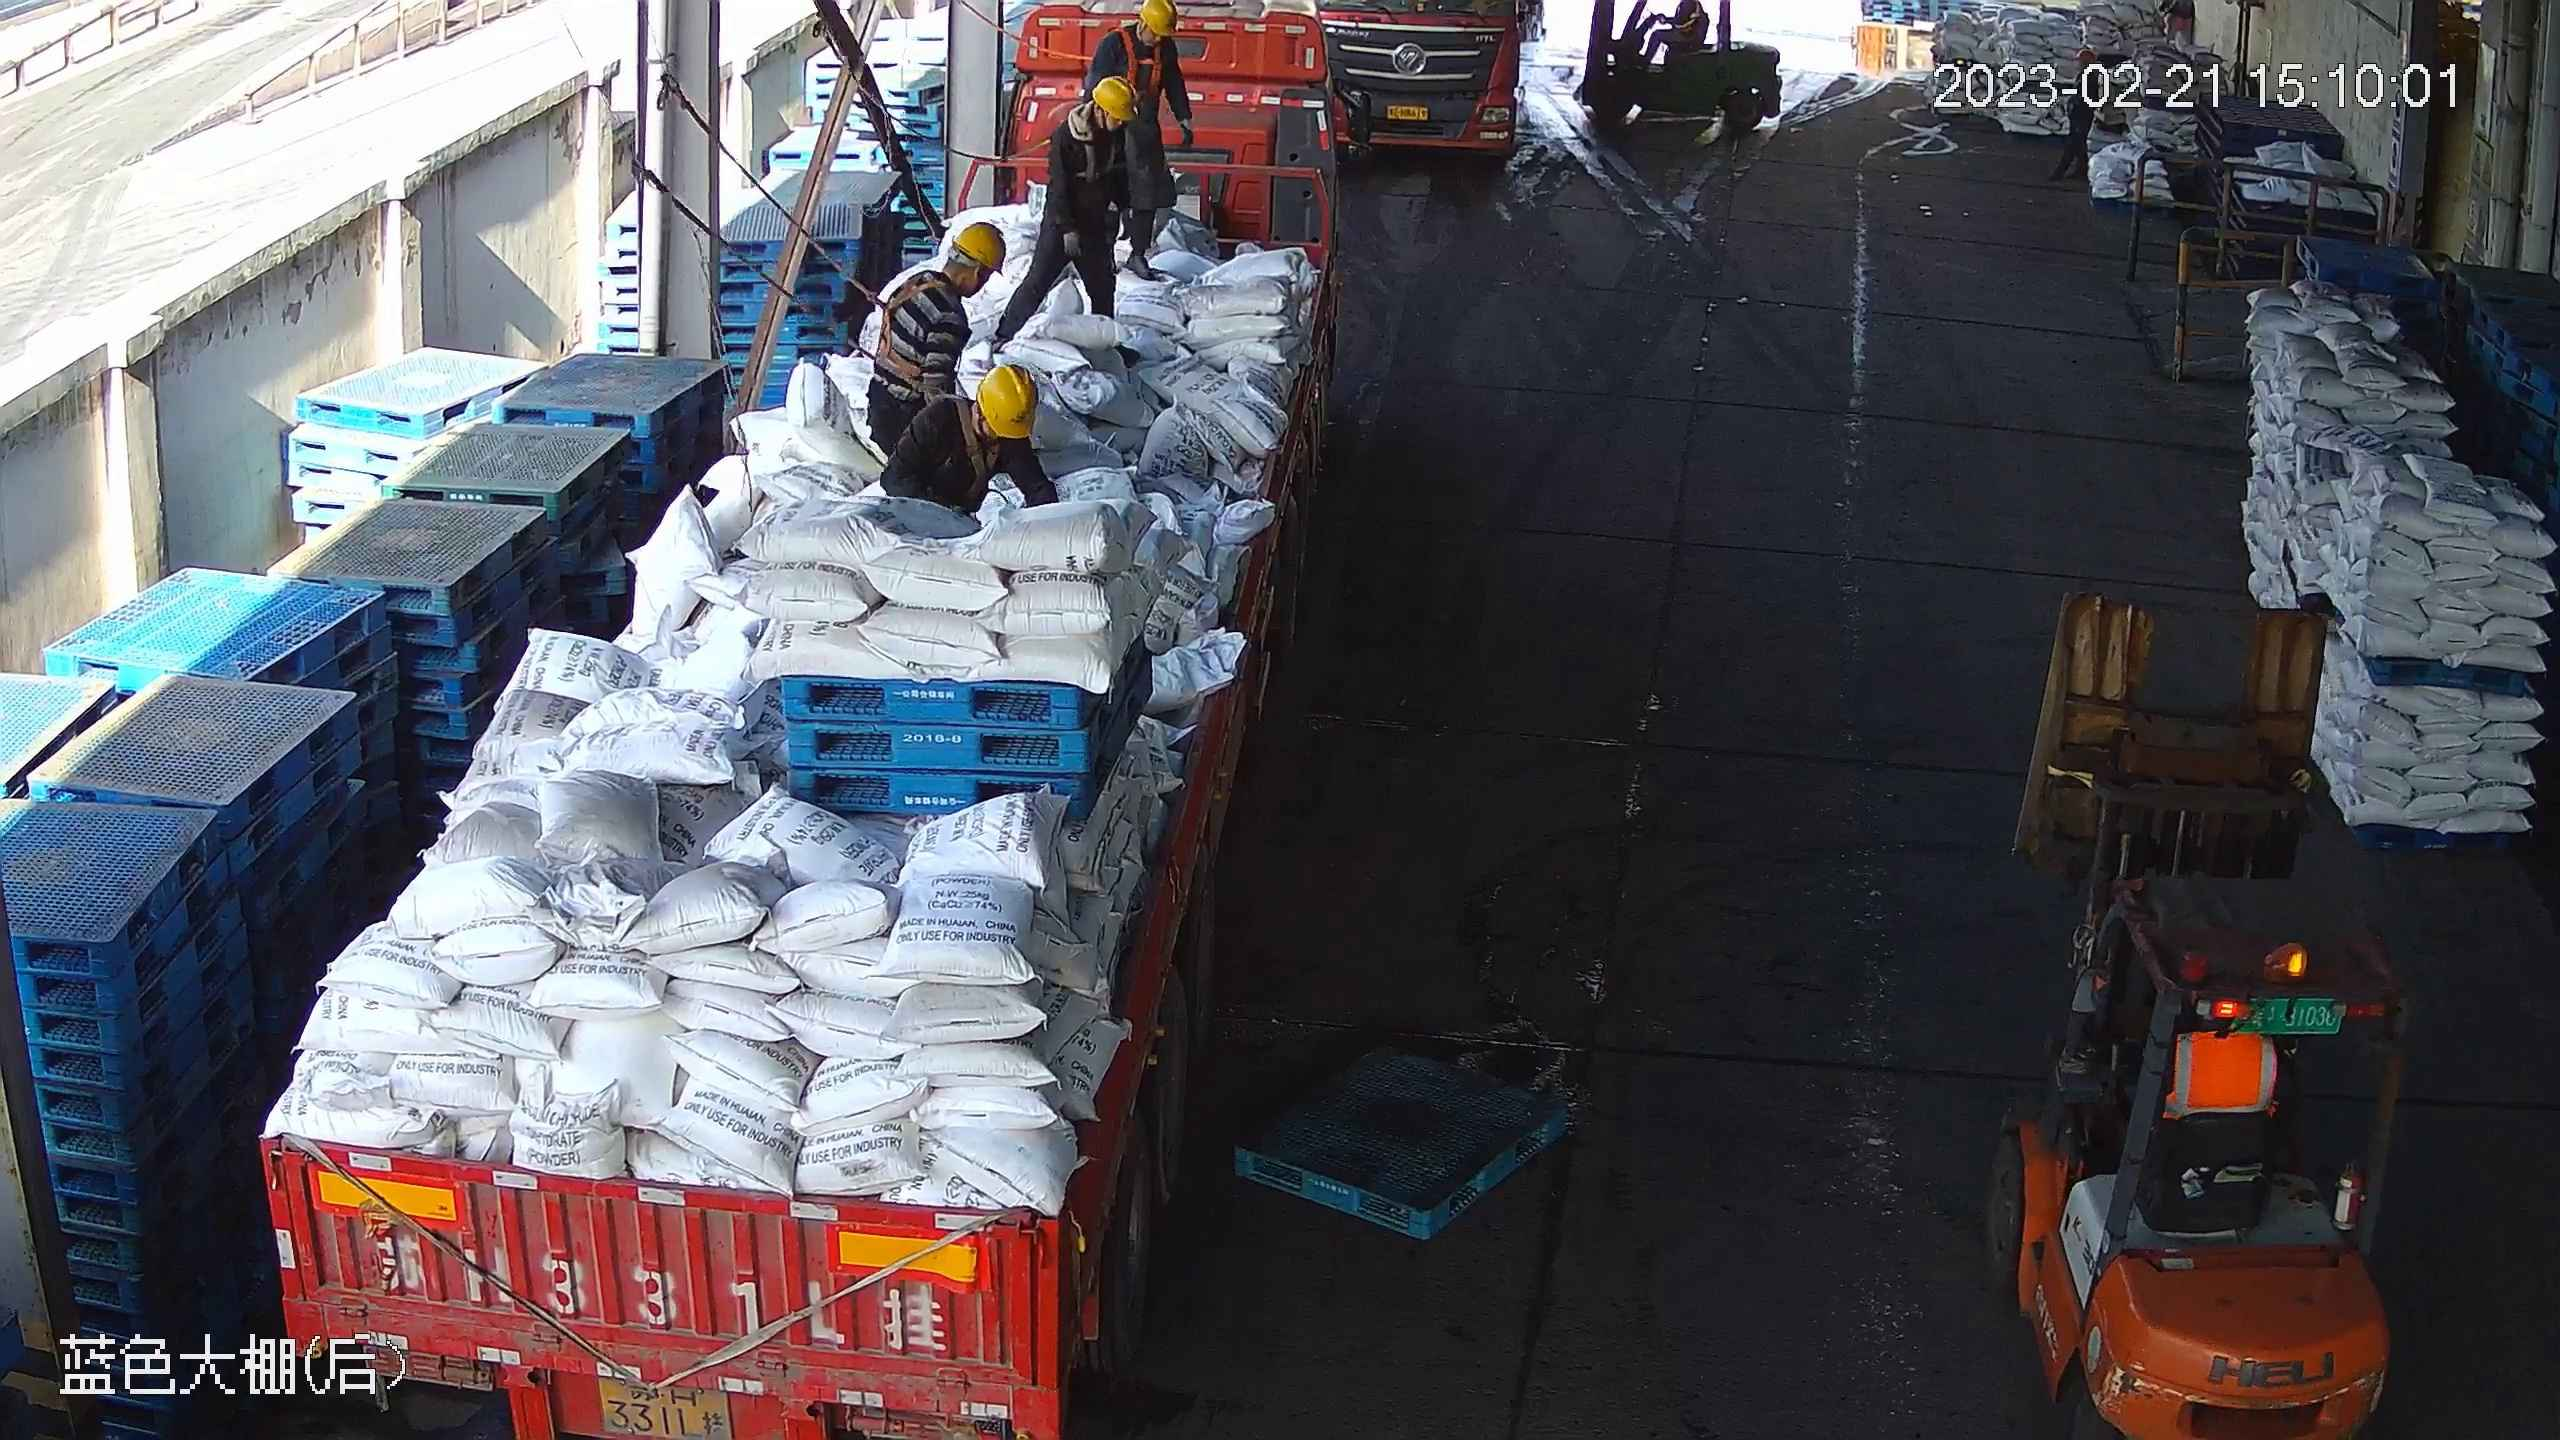belt: (863, 283, 949, 378), (947, 404, 1013, 506), (1106, 30, 1173, 94), (1078, 142, 1127, 187)
head: (901, 368, 1049, 490), (882, 223, 1008, 330), (1047, 80, 1135, 173), (1104, 2, 1180, 83)
helmet: (982, 370, 1034, 444), (954, 225, 1009, 273), (1094, 78, 1135, 125), (1140, 1, 1173, 35)
people: (990, 77, 1142, 351), (868, 221, 1004, 470), (1087, 2, 1194, 290), (1635, 2, 1704, 71)
truck: (256, 4, 1377, 1437), (1316, 1, 1547, 183)
